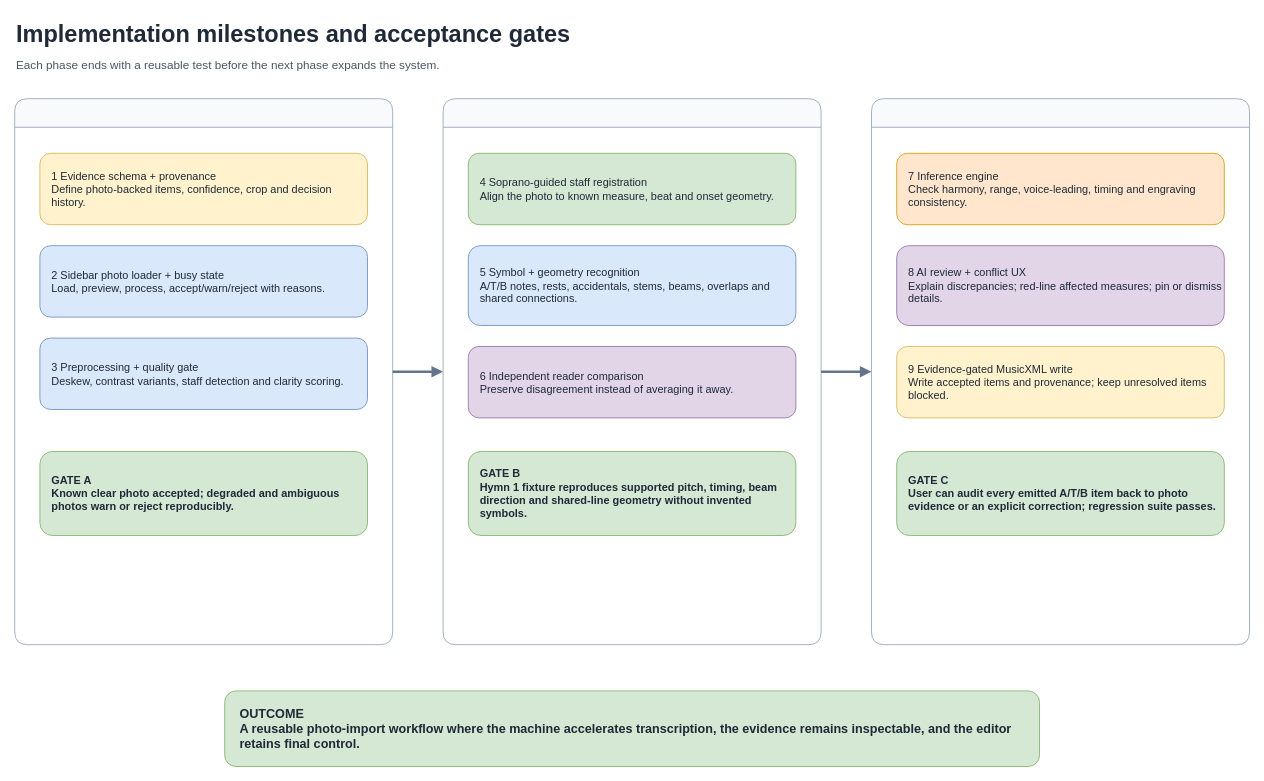
Image size: 1264x781. Some labels were removed from this diagram. The shapes that lost their labels are listed below. From the top down, each one's box as (x1, y1, x2, y2) in pixels, then its label:
(14, 98, 393, 645): FOUNDATION
(442, 98, 821, 645): RECOGNITION + REGISTRATION
(871, 98, 1250, 645): VERIFICATION + CONTROLLED EMISSION
